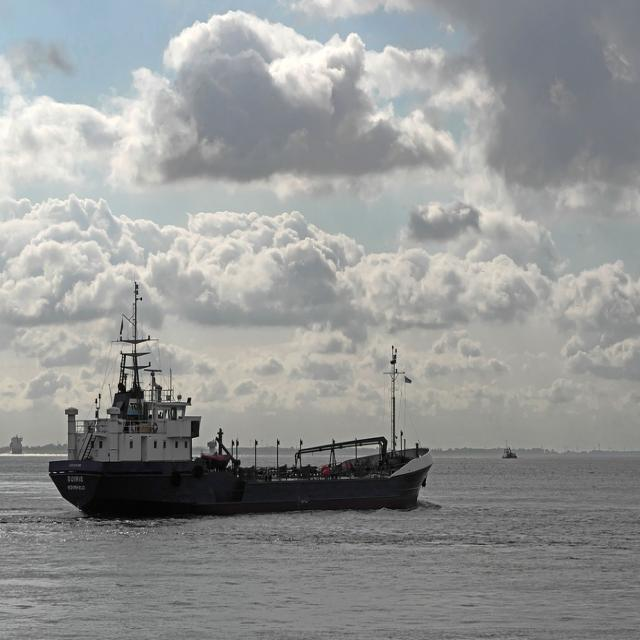fishing boat: (51, 340, 431, 513)
